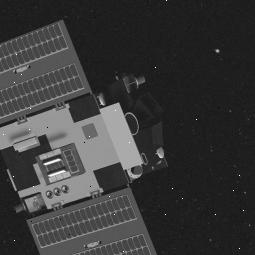proba_2: (0, 15, 178, 255)
